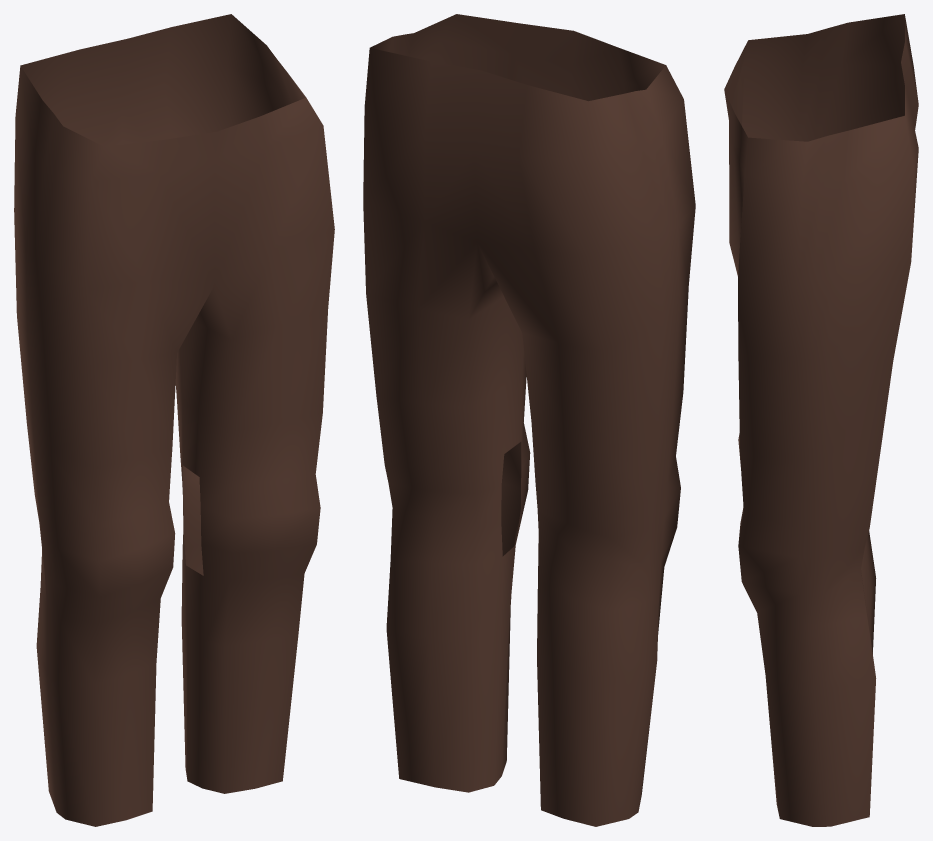
Rendered from leather_pants.gltf.
3 views of the same model, side by side, from view 1: azimuth 30°, elevation 25°; view 2: azimuth 150°, elevation 25°; view 3: azimuth 270°, elevation 25° (orthographic). The views are drawn at different scales.
Visible parts, largest first — view 1: Cube.001; view 2: Cube.001; view 3: Cube.001.
Part boxes in pixels (x1,y1,x2,y2): Cube.001: (14, 14, 334, 826); Cube.001: (363, 14, 695, 826); Cube.001: (724, 14, 918, 826).
Bounding box in the file's own units: 0.322 × 0.802 × 0.1984.
